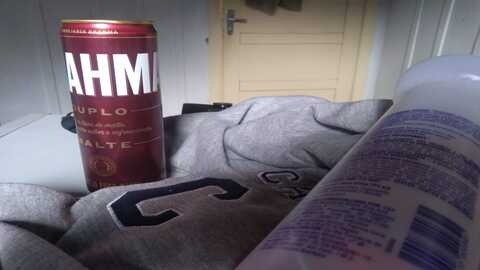duplo_malte: (56, 20, 167, 187)
